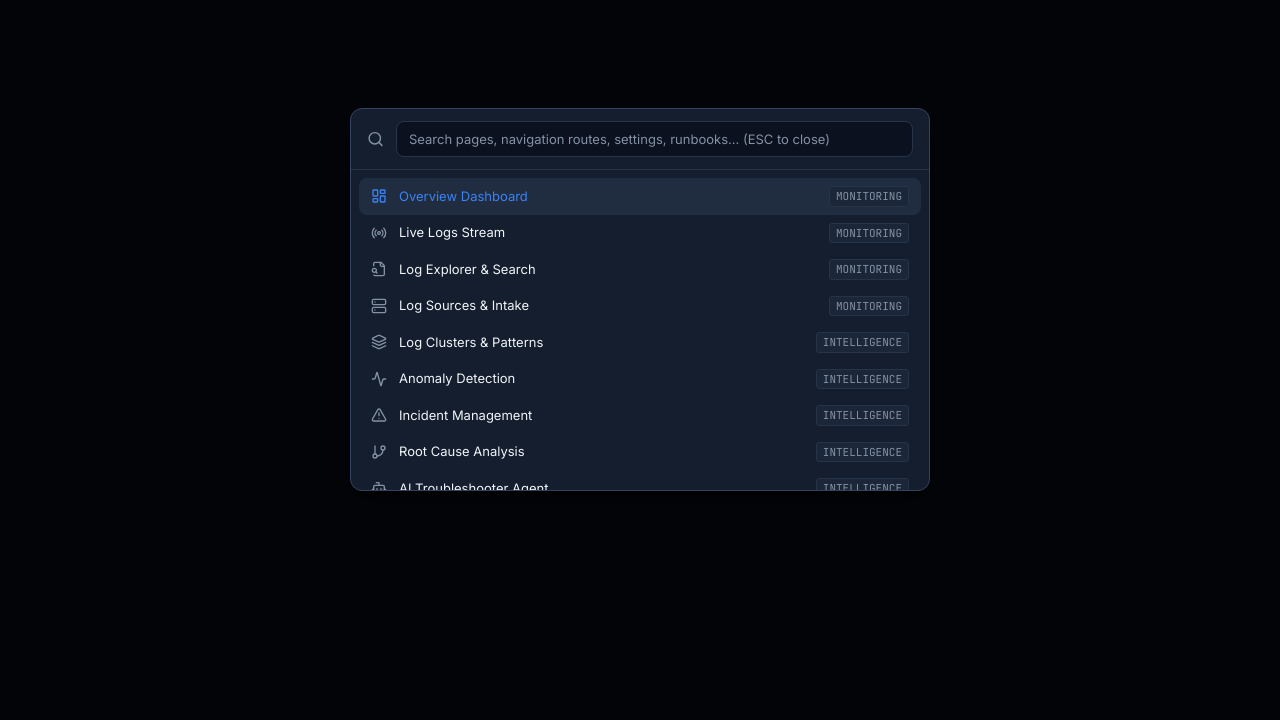
Scenario: Phase 13: Interactive Monitoring Dashboard & Command Center › renders CommandPalette and searches both routes and dynamic log queries
expect the text "Overview Dashboard" is shown: met, box left=399, top=186, right=528, bottom=206
Note: Type a specific query
Replace the text in the field with placeholder "Search pages" with "database timeout": point(654, 139) left=396, top=121, right=913, bottom=157
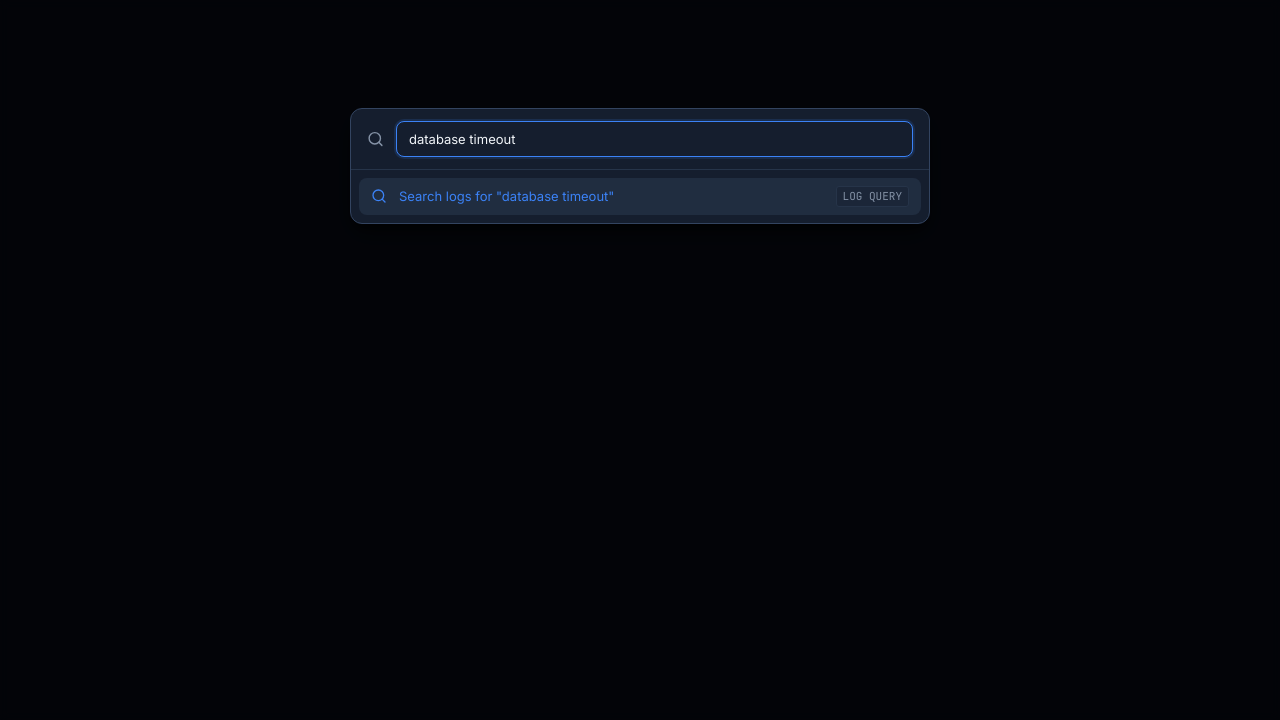
expect the text "Search logs for \"database timeout\"" is shown: met, box left=399, top=186, right=614, bottom=206
